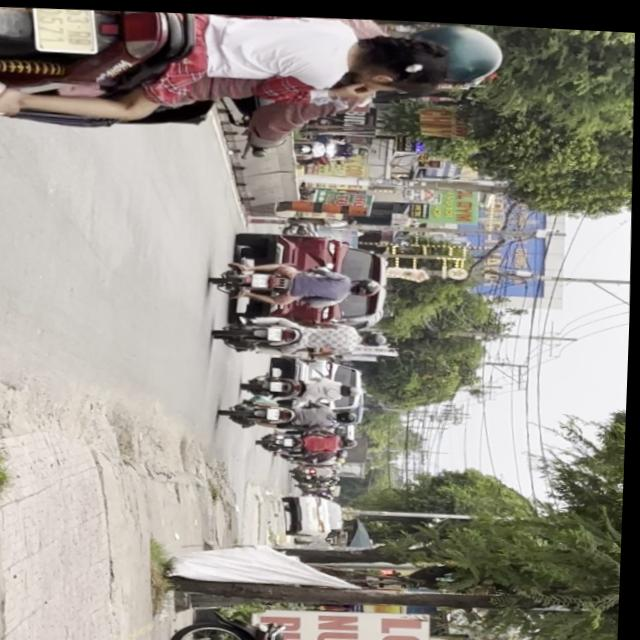helmet: (389, 16, 507, 83)
licenseplate: (0, 0, 511, 164)
motorcyclist: (346, 27, 457, 94)
nohelmet: (31, 5, 97, 53)
